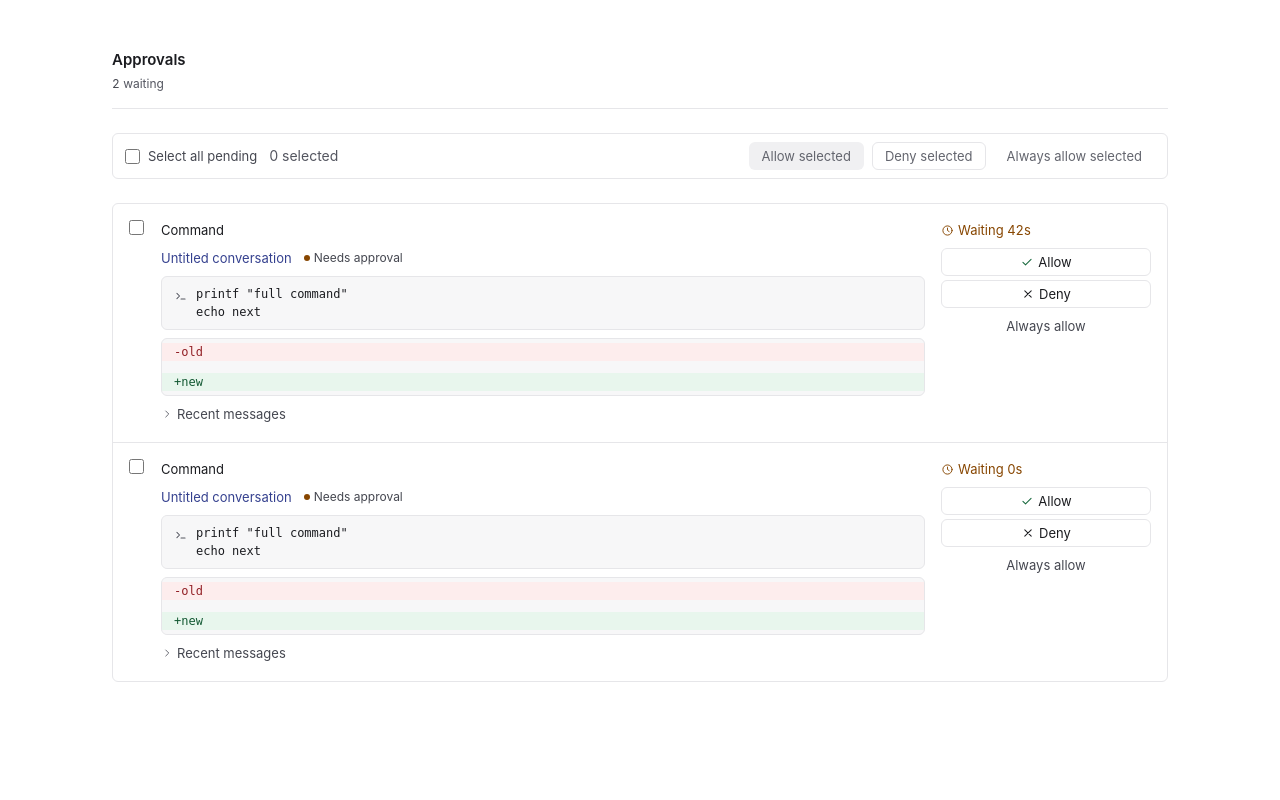
Test case: orders all projects oldest first, displays commands, expanded diffs, wait and conversation tail
The width and height of the screenshot is (1280, 800).
Check: the text "Waiting 42s" is shown, box [941,222,1031,238]
Click the 1st heading "Recent messages" at {"x": 223, "y": 414}, box [161,404,286,424]
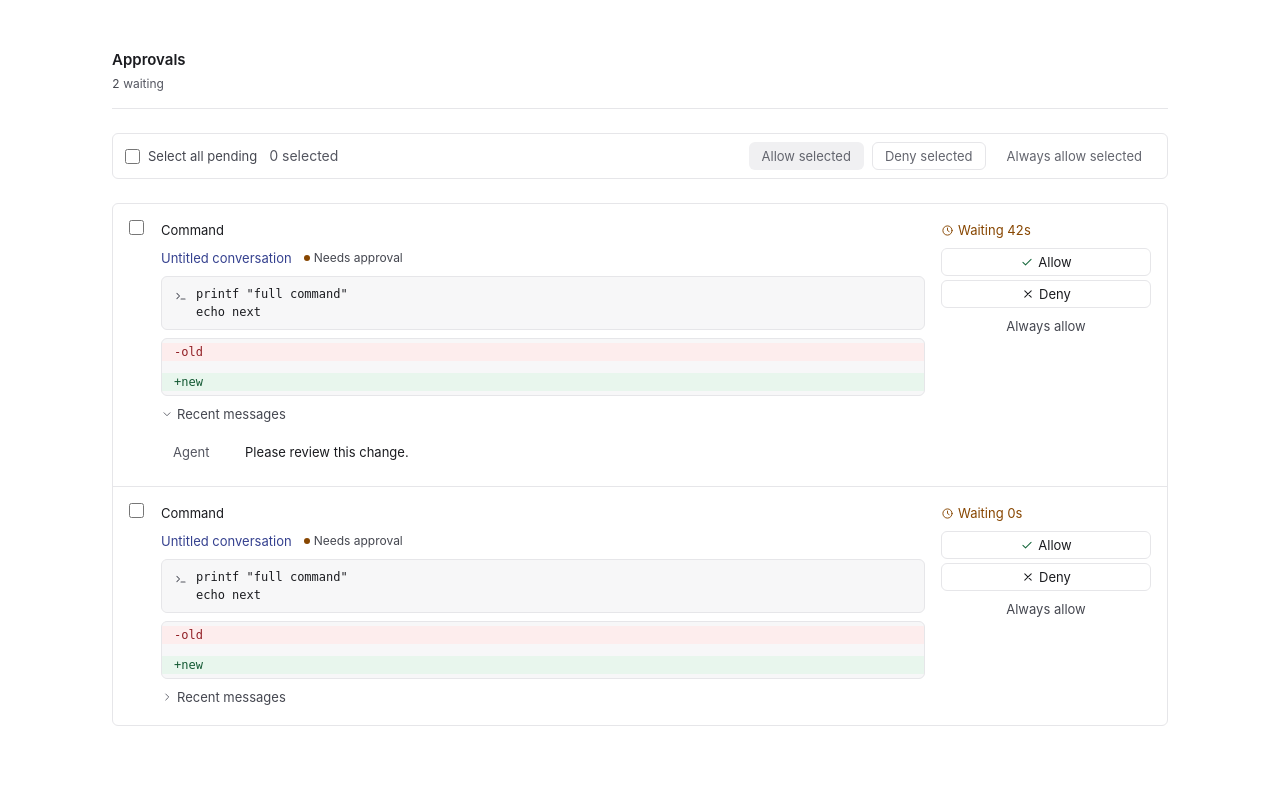
Check: the text "Please review this change." is shown 2 times
